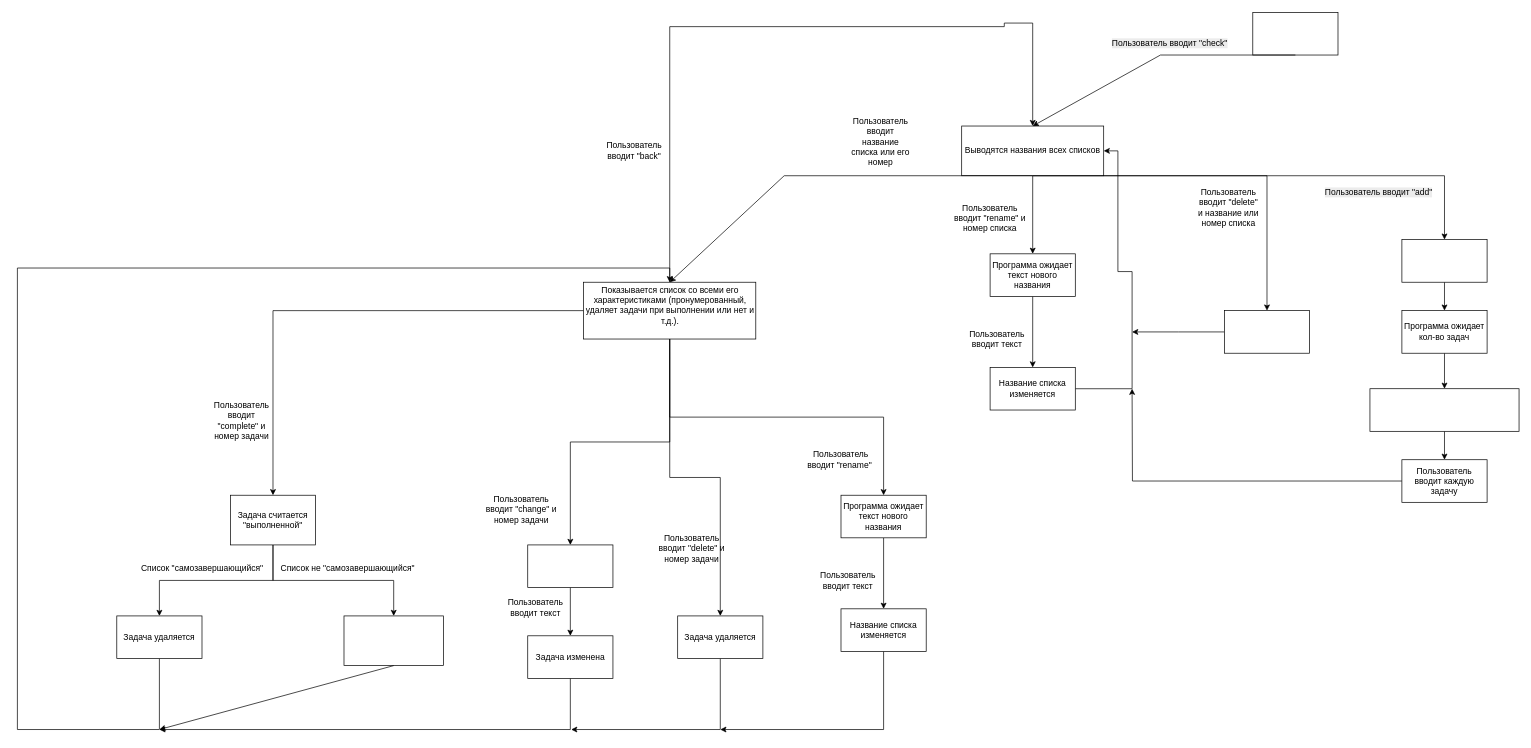
This 1531x748 diagram has some shape labels left out. The box of each missing label's shape, as (x1, y1, x2, y2) in pixels:
Задача визуально показывается "выполненной" и не удаляется из списка: (343, 615, 443, 666)
Начало работы: (1252, 12, 1338, 55)
Программа ожидает названия списка: (1401, 239, 1487, 282)
Программа ожидает новый текст задачи: (527, 544, 613, 588)
Программа ожидает характеристик списка (нумерованный, самозавершающийся и т.д.): (1369, 388, 1519, 431)
Список удаляется: (1224, 310, 1310, 353)
